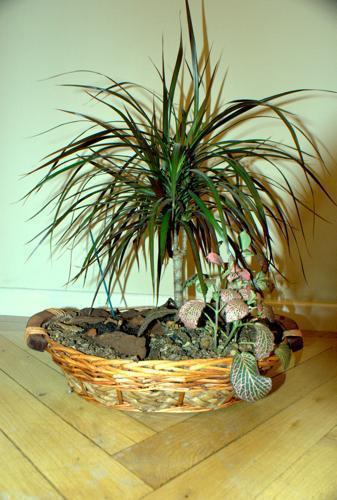Matera: (21, 43, 329, 414)
